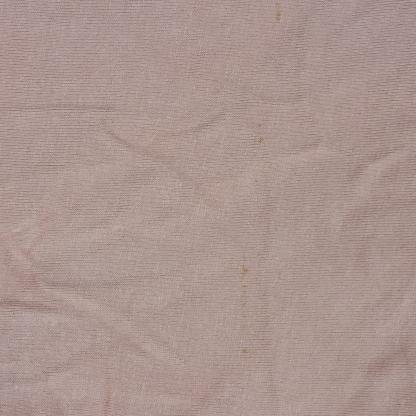spot: (232, 243, 250, 359), (272, 0, 287, 26), (255, 132, 267, 147)
